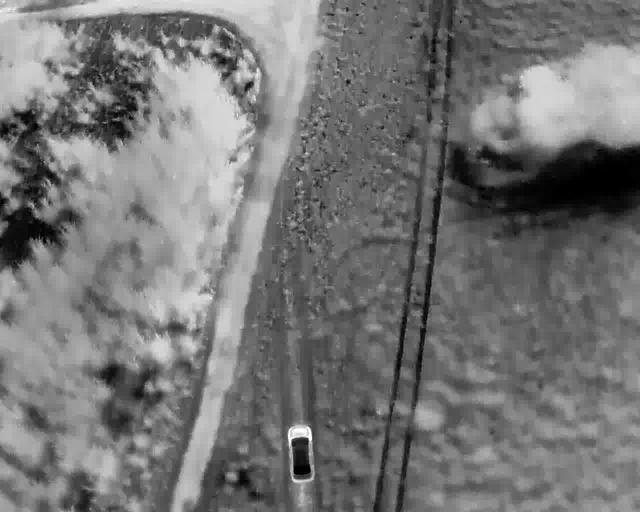car: (287, 424, 315, 483)
